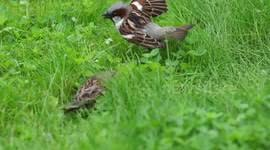home_sparrow: (99, 0, 199, 54), (57, 65, 114, 127)
